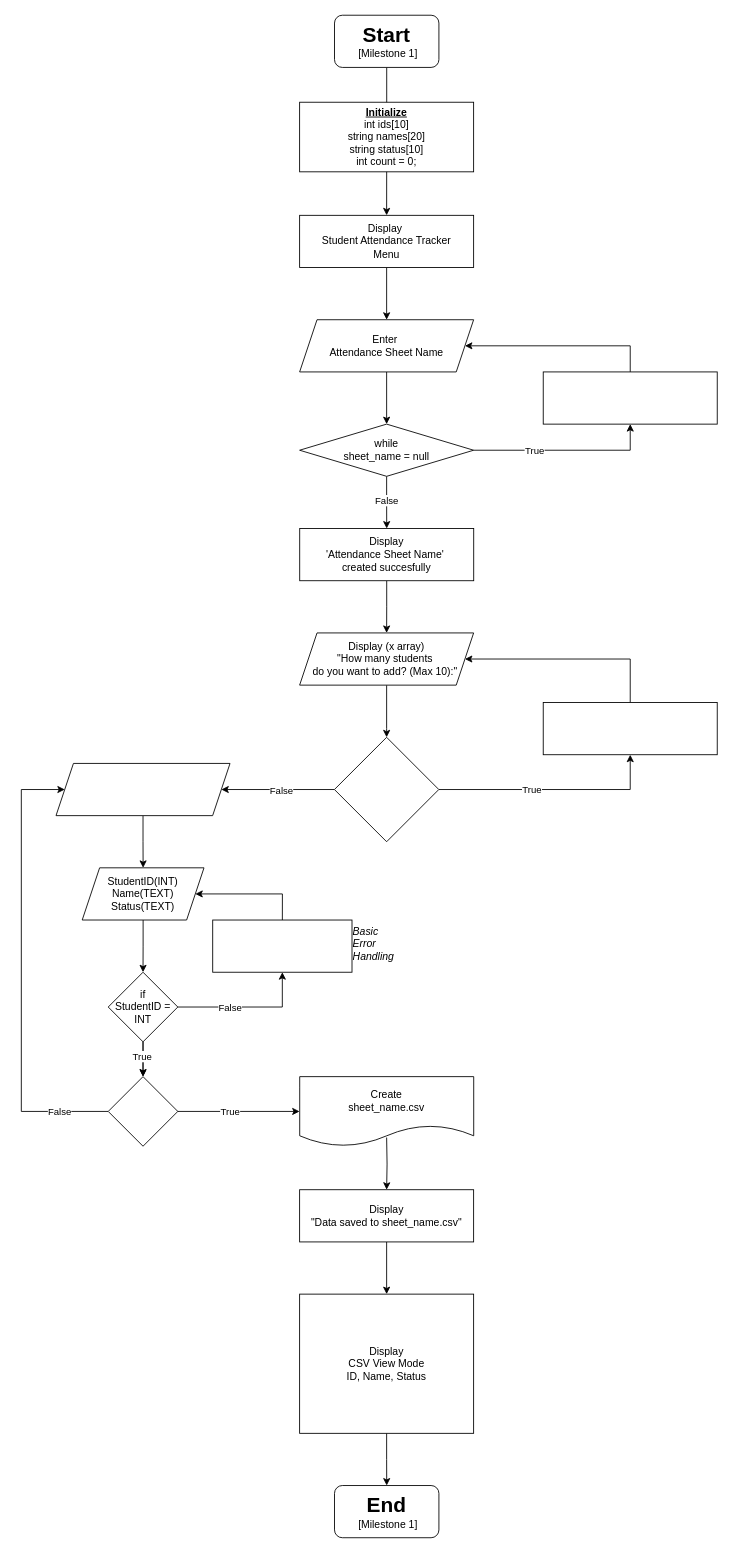
Image size: 733x1553. Some labels were removed from this diagram. The shapes that lost their labels are listed below. From the top down, each one's centre as x and y in pixels, then its label:
point 629,397: Display "Input cannot be empty. Enter attendance sheet name:"
point 629,728: Display "The max is 10"
point 142,789: Enter Column Name (x array)
point 386,789: if x < 0 or x > 10
point 282,945: Display "Error: Invalid INT value. Please enter a number."
point 142,1111: if x = x
